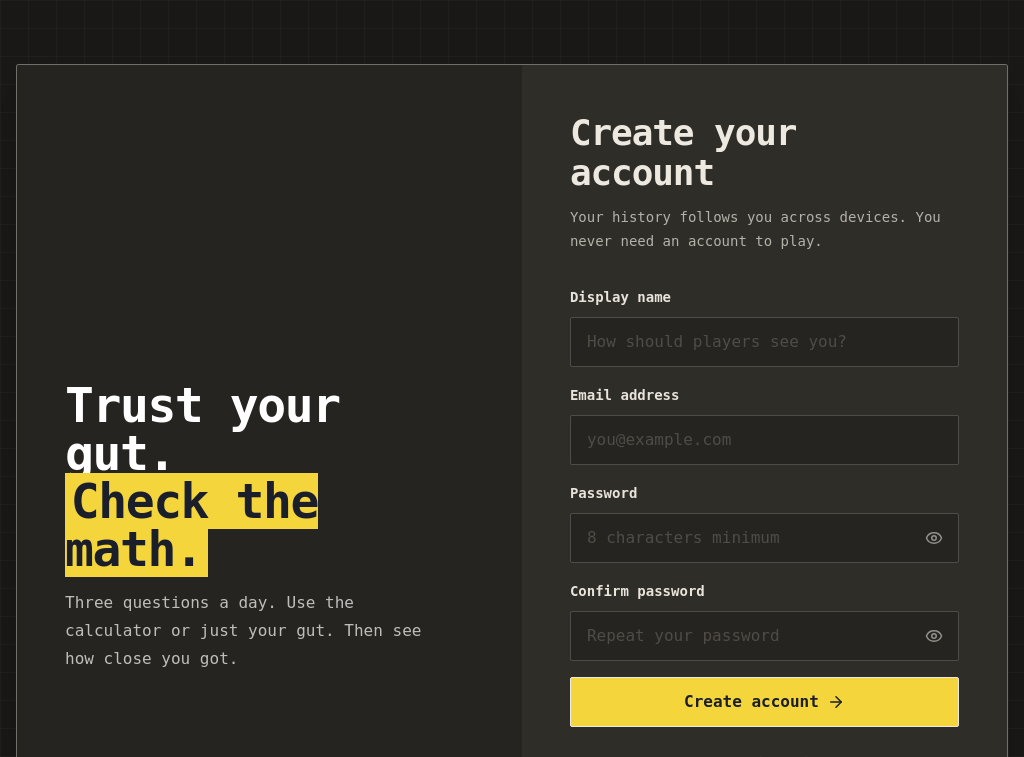
Auth pending verification › replaces the signup form with pending verification
Type "player@example.com" into the field labelled "Email address" at (764, 440), box x1=570 y1=415 x2=959 y2=465
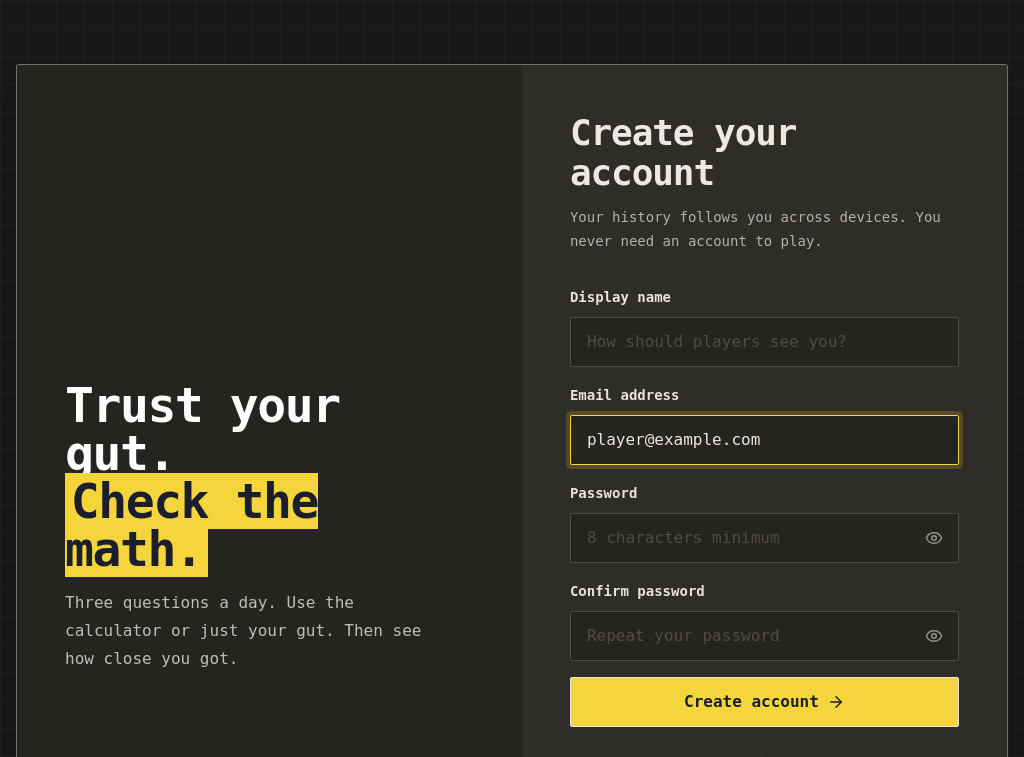
Type "Player" into the field labelled "Display name" at (764, 342), box x1=570 y1=317 x2=959 y2=367
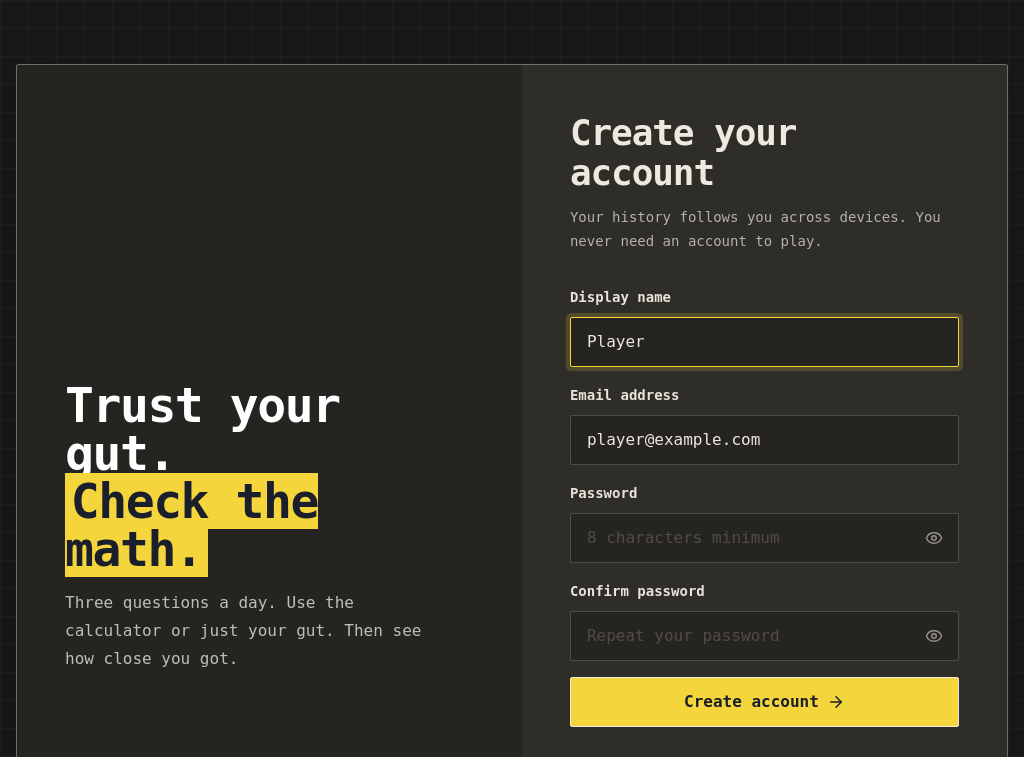
Type "password123" into the password field labelled "Password" at (764, 538), box x1=570 y1=513 x2=959 y2=563
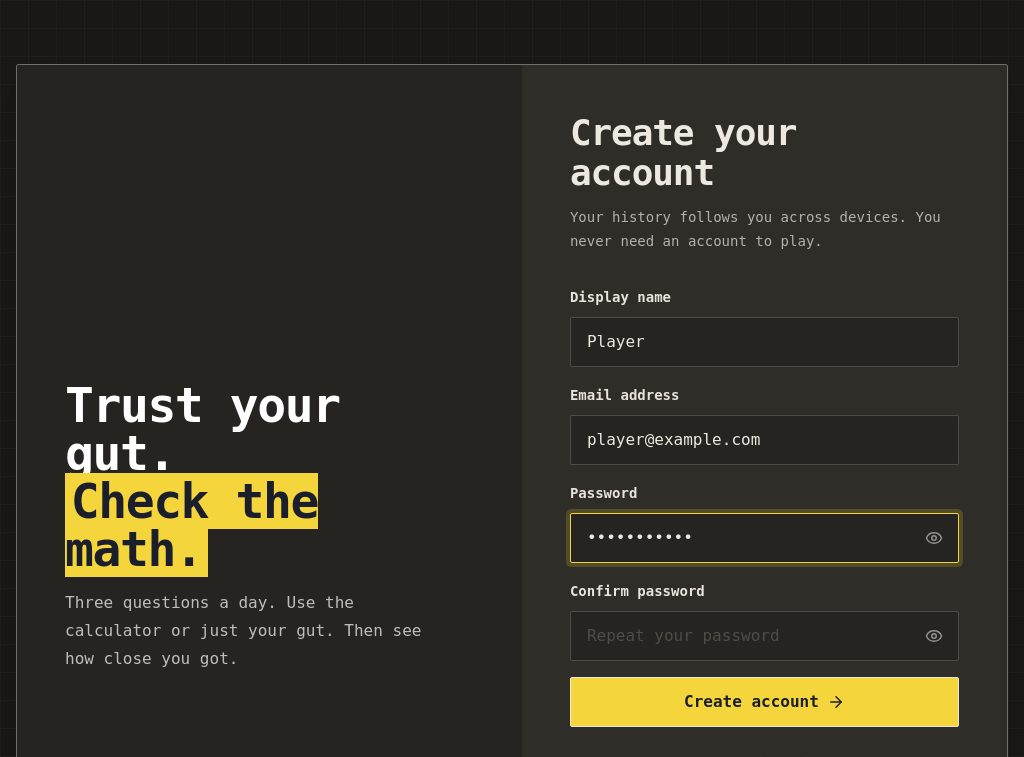
Type "password123" into the password field labelled "Confirm password" at (764, 636), box x1=570 y1=611 x2=959 y2=661
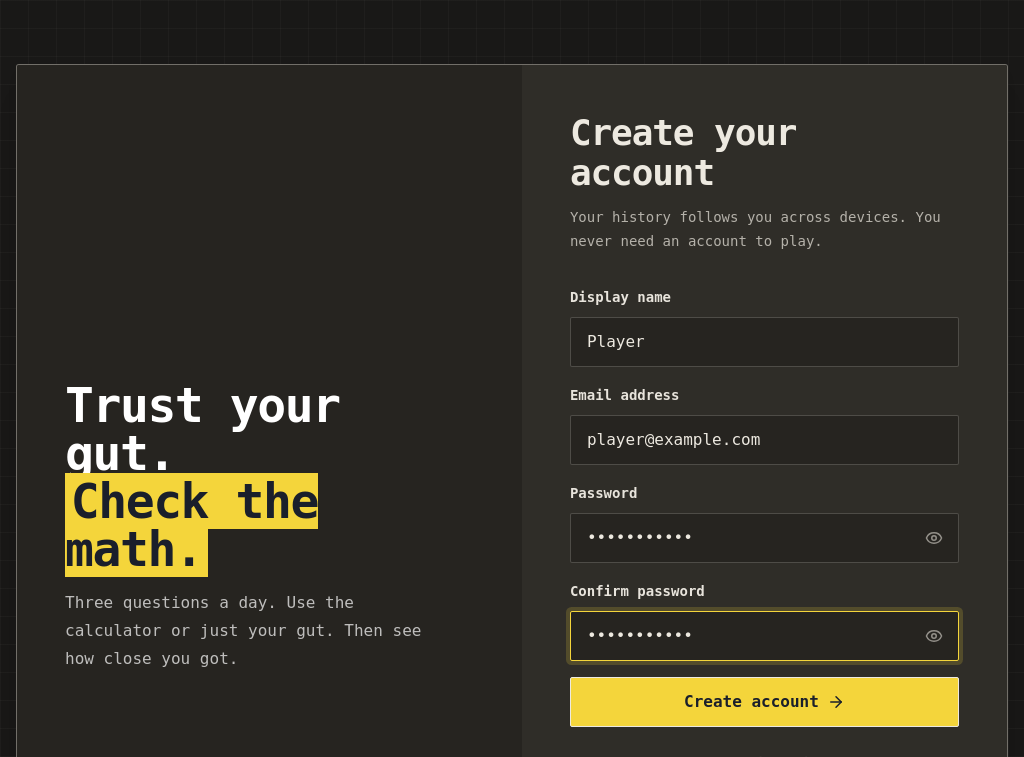
Click the button "Create account" at (764, 702), box x1=570 y1=677 x2=959 y2=727
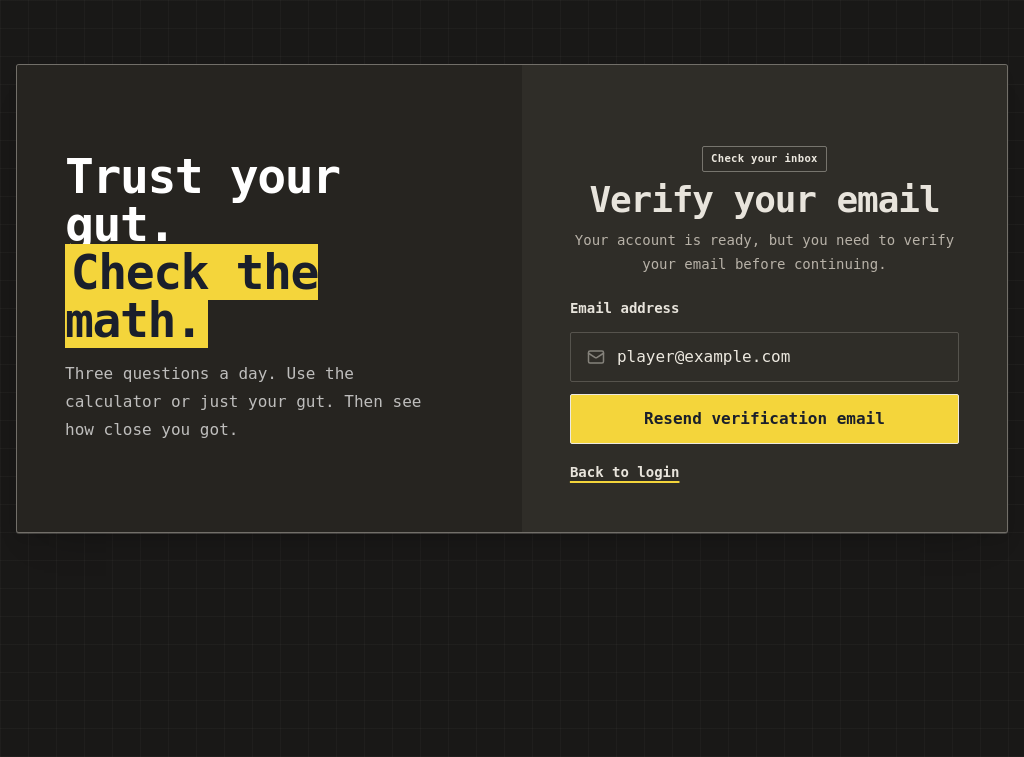
Now the heading "Verify your email" is shown, box x1=570 y1=180 x2=959 y2=220
Now the button "Create account" is gone
